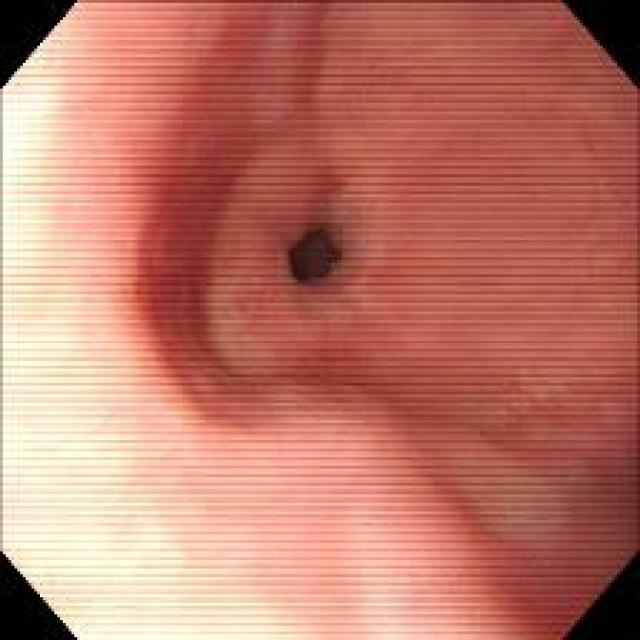contrast: (285, 228, 345, 282)
saturation: (0, 5, 122, 639), (0, 496, 320, 635)
